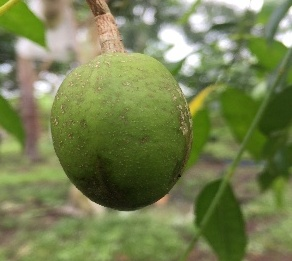Coc: (52, 52, 194, 211)
